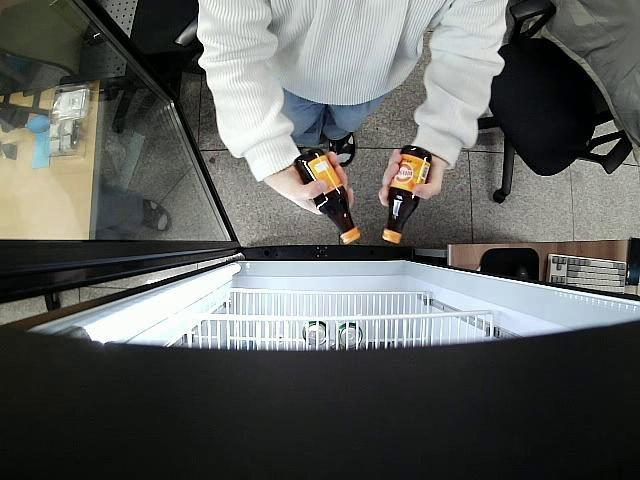17_vita500: (294, 149, 360, 246), (382, 146, 434, 246)
